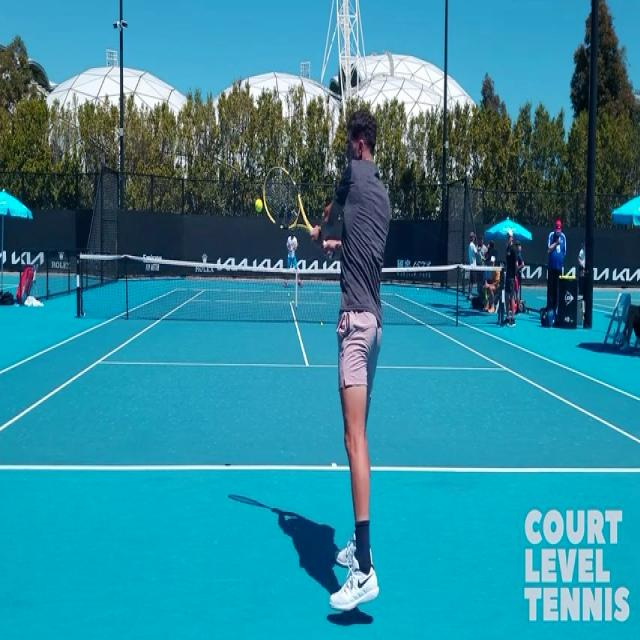backhand-stroke: (253, 107, 400, 626)
